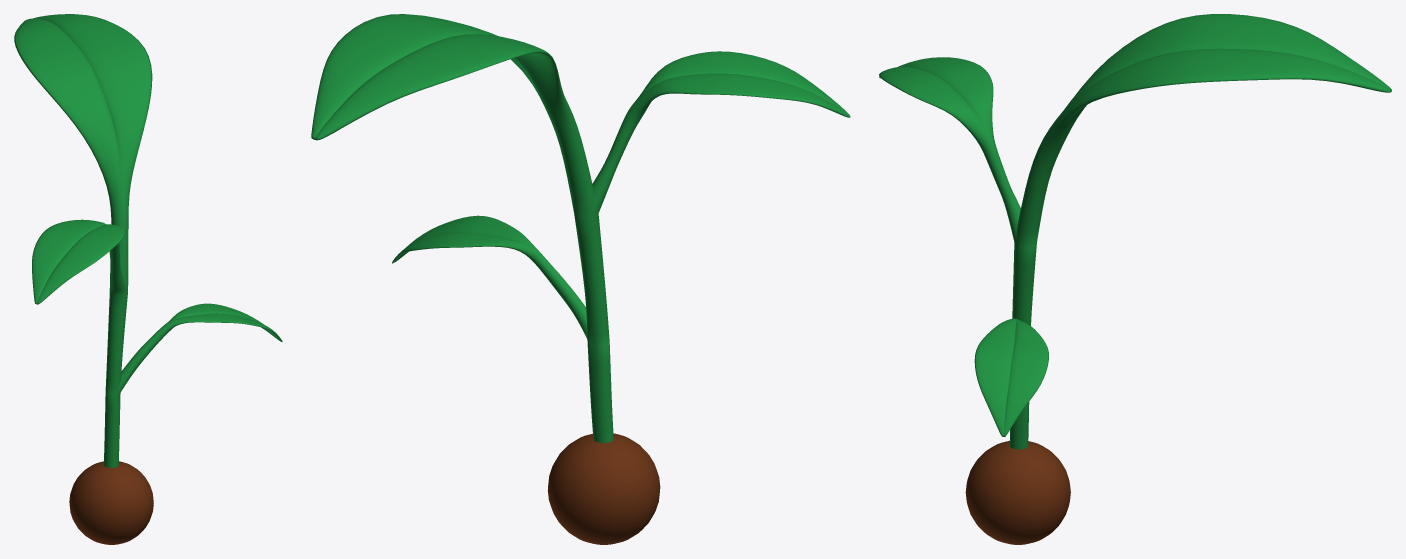
File: CarrotStage03.fbx
3 renders of one model, left to right at view 1: azimuth 30°, elevation 25°; view 2: azimuth 150°, elevation 25°; view 3: azimuth 270°, elevation 25°, orthographic. The views are drawn at different scales.
Visible parts, largest first — view 1: Plane.002, Sphere.001; view 2: Plane.002, Sphere.001; view 3: Plane.002, Sphere.001.
Boxes of the visible parts, x1=… form: Plane.002: x1=14, y1=14, x2=282, y2=467; Sphere.001: x1=69, y1=461, x2=153, y2=544; Plane.002: x1=311, y1=14, x2=850, y2=442; Sphere.001: x1=547, y1=433, x2=660, y2=544; Plane.002: x1=879, y1=14, x2=1391, y2=449; Sphere.001: x1=965, y1=441, x2=1070, y2=544.
Size of the model in its own units: 154 by 211 by 186.
